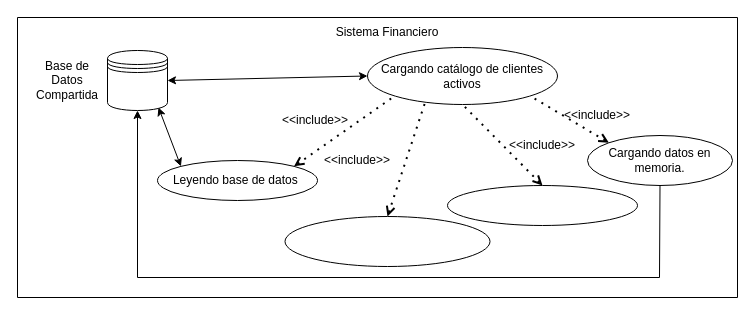
Image size: 755x315. Some labels were removed from this diagram. The centre of each missing label's shape, as x and y in pixels:
Extrayendo datos permitidos: (542,205)
Filtrando registrados como clientes "Activos": (387,241)
